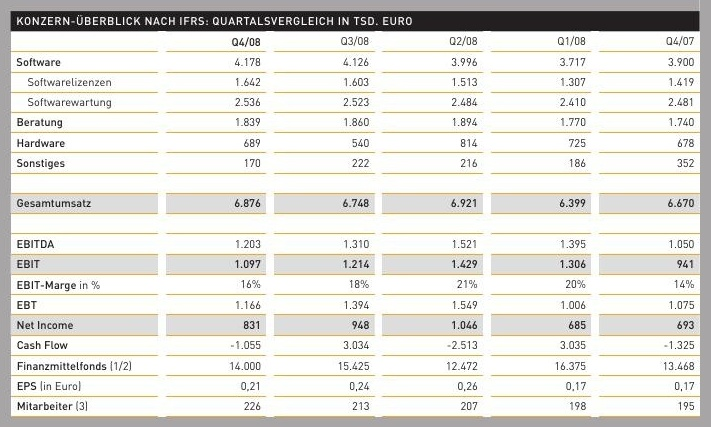table: (0, 0, 711, 427)
